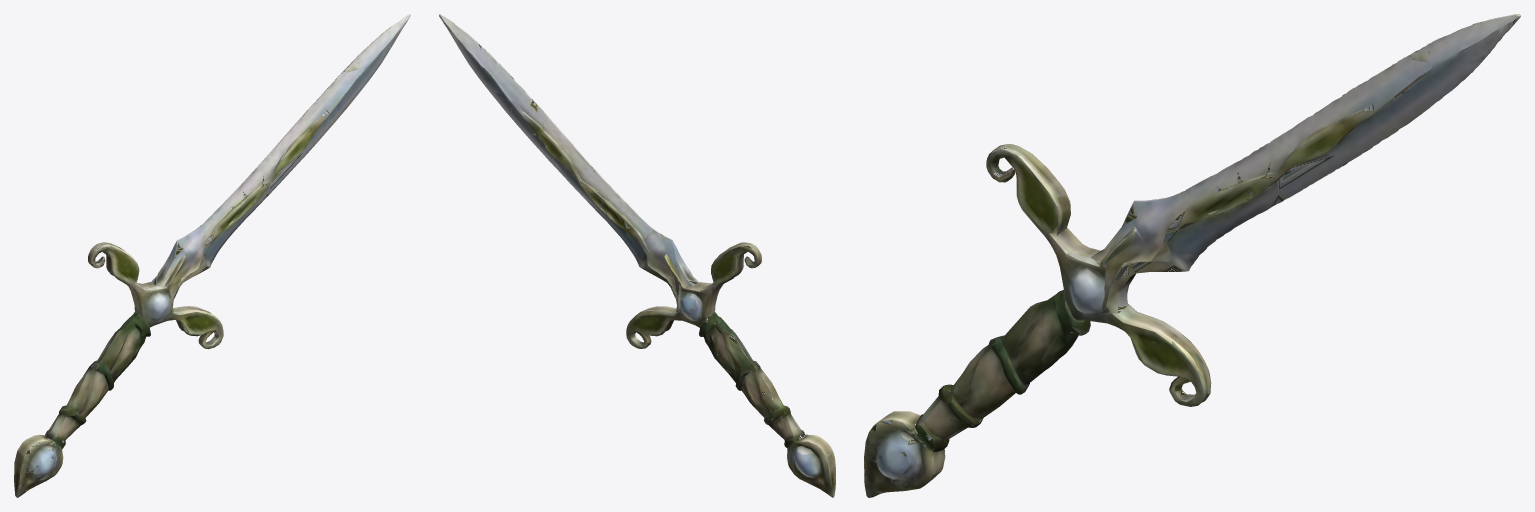
File: willow_leaf_longsword.glb
The picture shows the model from 3 angles, left to right: view 1: azimuth 30°, elevation 25°; view 2: azimuth 150°, elevation 25°; view 3: azimuth 330°, elevation 25°; orthographic projection. The views are drawn at different scales.
Parts seen in each view (by area): view 1: world; view 2: world; view 3: world.
Part boxes in pixels (<box>): world: <box>14,14,410,497</box>; world: <box>439,14,835,497</box>; world: <box>864,14,1520,497</box>.
Bounding box in the file's own units: 0.9986 × 0.9362 × 0.0708.
1 material, 1 textured.
